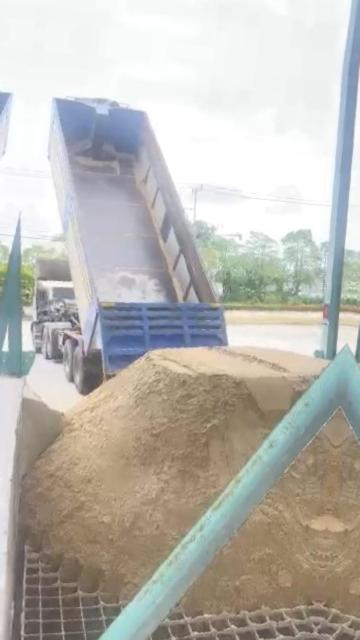sand: (23, 348, 322, 598), (185, 417, 337, 611), (16, 386, 65, 485)
